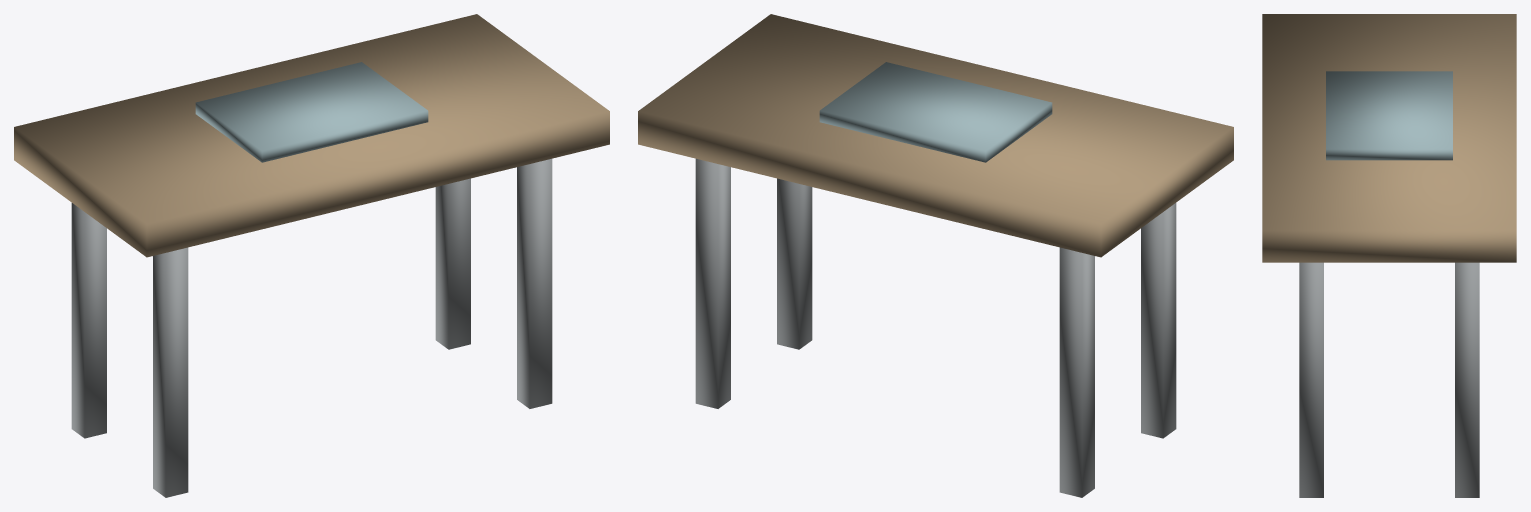
Rendered from material_inspection_table.glb.
3 views of the same model, side by side, from view 1: azimuth 30°, elevation 25°; view 2: azimuth 150°, elevation 25°; view 3: azimuth 270°, elevation 25° (orthographic). The views are drawn at different scales.
Visible parts, largest first — view 1: world; view 2: world; view 3: world.
Part boxes in pixels (x1,y1,x2,y2): world: [14, 14, 609, 497]; world: [638, 14, 1233, 497]; world: [1262, 14, 1516, 497].
Size of the model in its own units: 1.45 by 0.9275 by 0.72.
